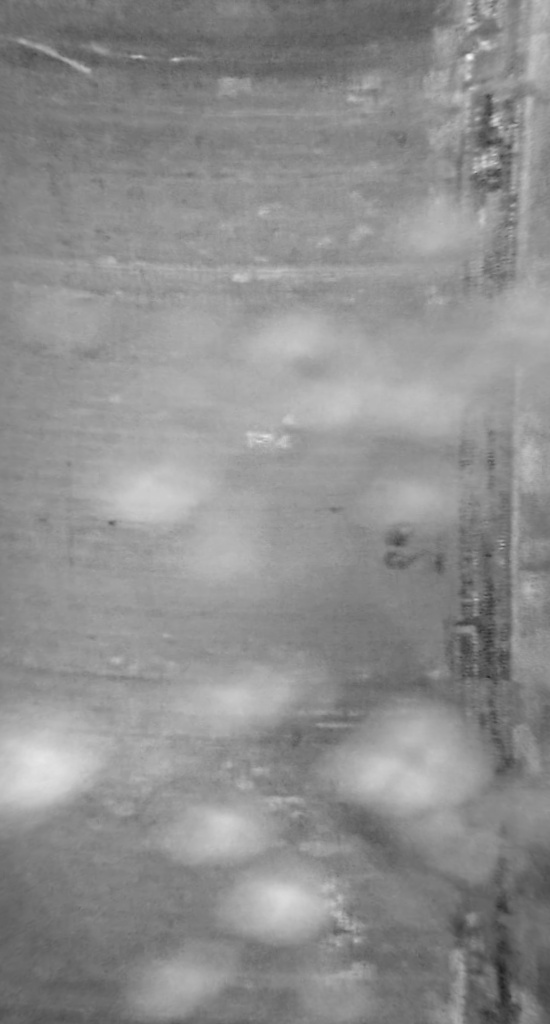splice: (446, 1, 543, 1021)
